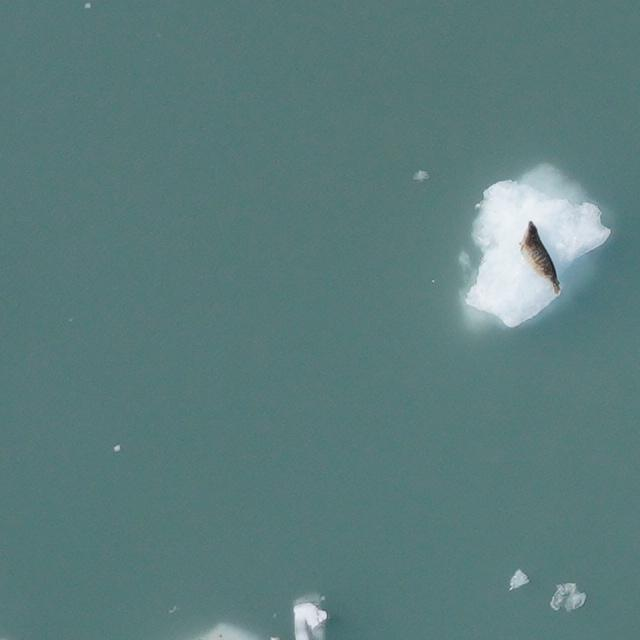seal: (510, 220, 570, 304)
